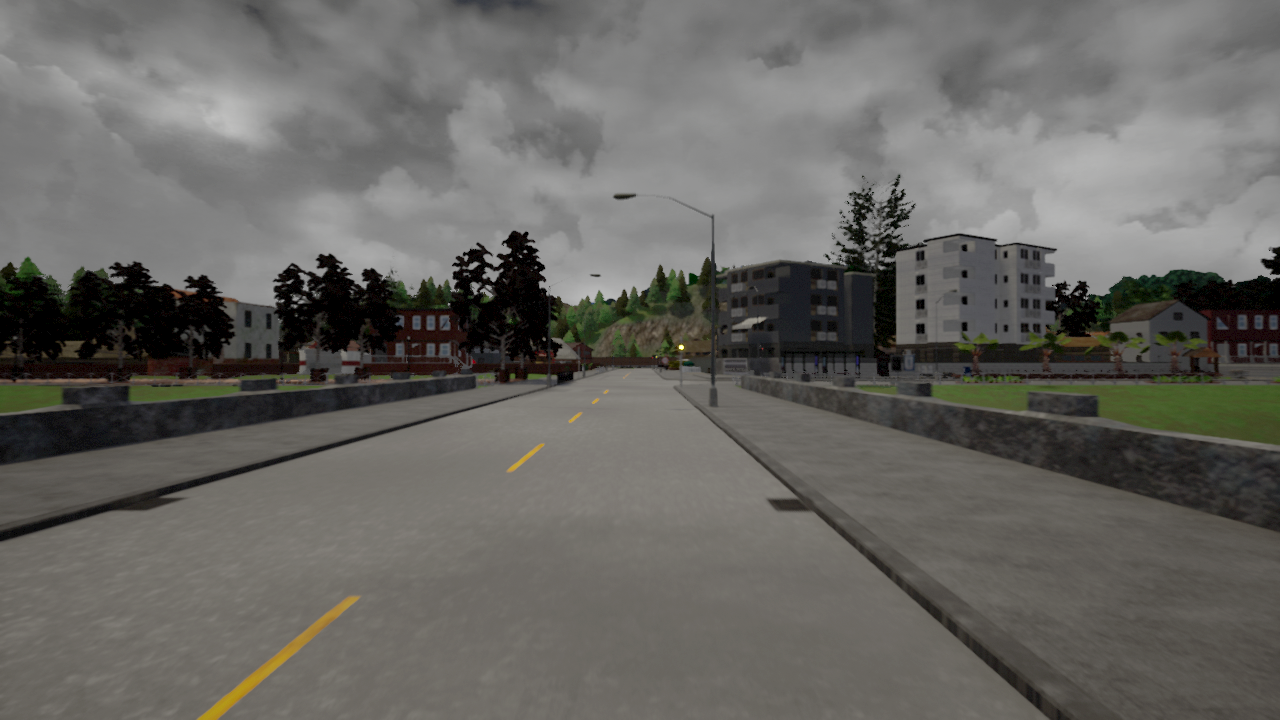yellow: (677, 340, 685, 355)
